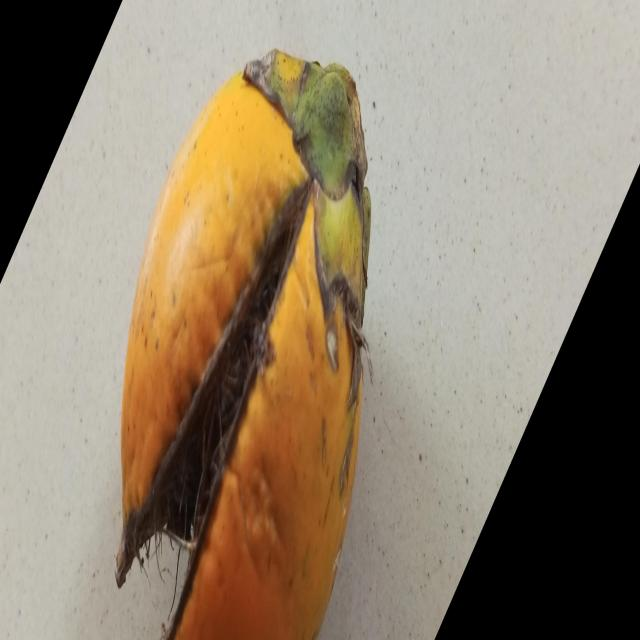damaged: (115, 50, 371, 640)
